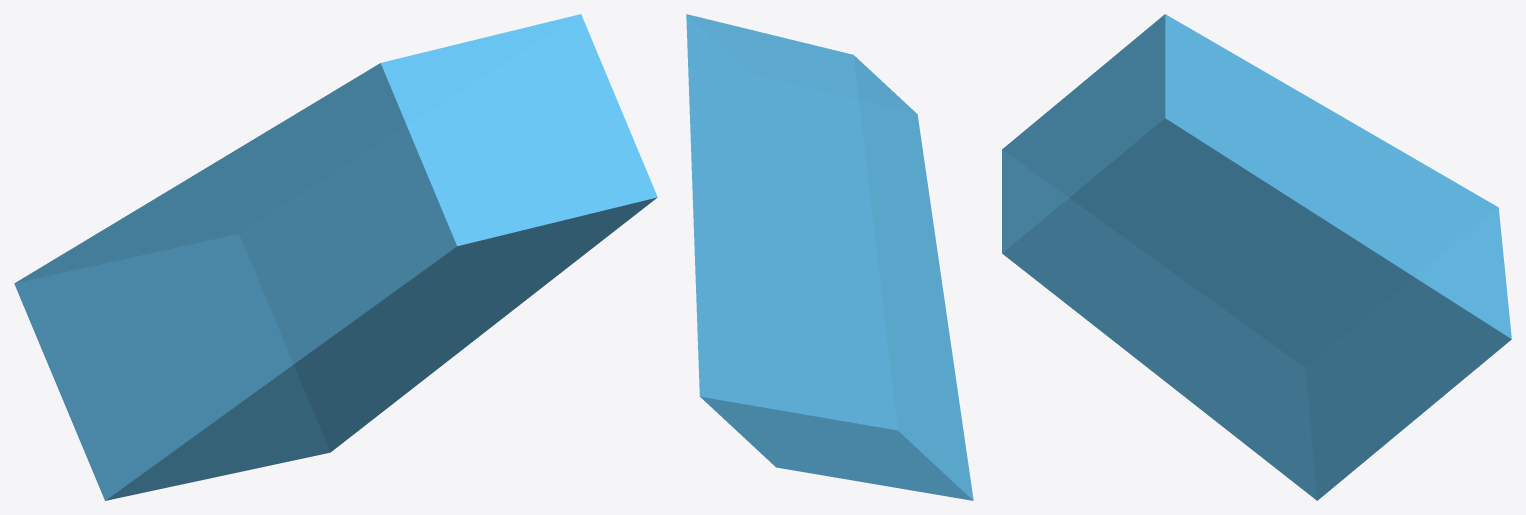
Rendered from Event_421364160_HBrechit_14.fbx.
3 views of the same model, side by side, from view 1: azimuth 30°, elevation 25°; view 2: azimuth 150°, elevation 25°; view 3: azimuth 270°, elevation 25° (orthographic). The views are drawn at different scales.
Visible parts, largest first — view 1: Model; view 2: Model; view 3: Model.
Part boxes in pixels (left/top/right/bottom): Model: left=14, top=14, right=657, bottom=500; Model: left=686, top=14, right=973, bottom=500; Model: left=1002, top=14, right=1511, bottom=500.
Size of the model in its own units: 0.9152 by 0.9535 by 0.9258.
